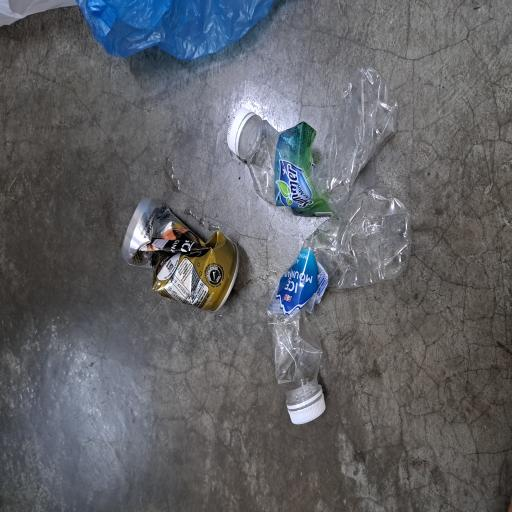can: (154, 157, 224, 325)
plastic bag: (337, 101, 384, 387)
plastic bottle: (83, 349, 239, 512), (224, 324, 330, 512)
plastic bottle cap: (266, 297, 305, 342), (65, 377, 94, 437)
